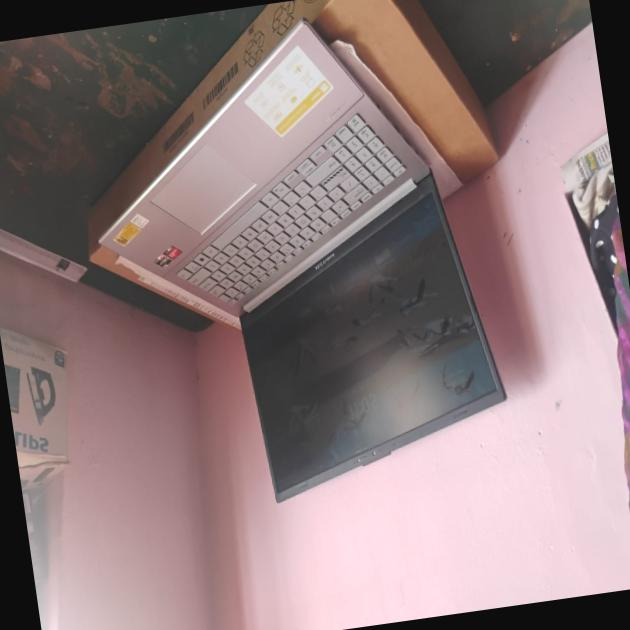laptop: (77, 0, 530, 511)
